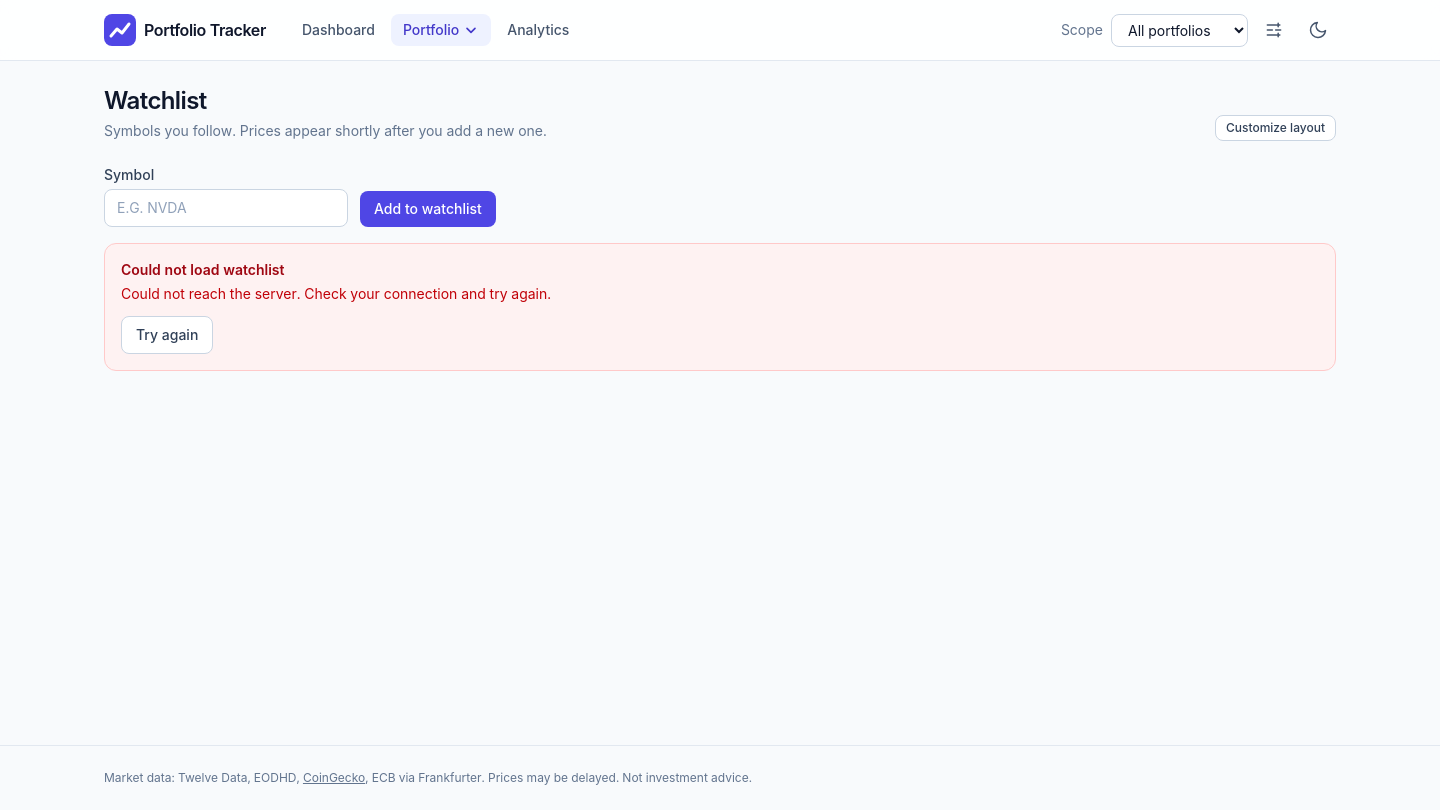
Test: WatchlistPage › shows an empty state and an error state with retry
Expected: the text "Could not load watchlist" is shown, [121, 261, 284, 278]
Step 1. Click the button "Try again" → point(167, 335), box [121, 316, 213, 354]
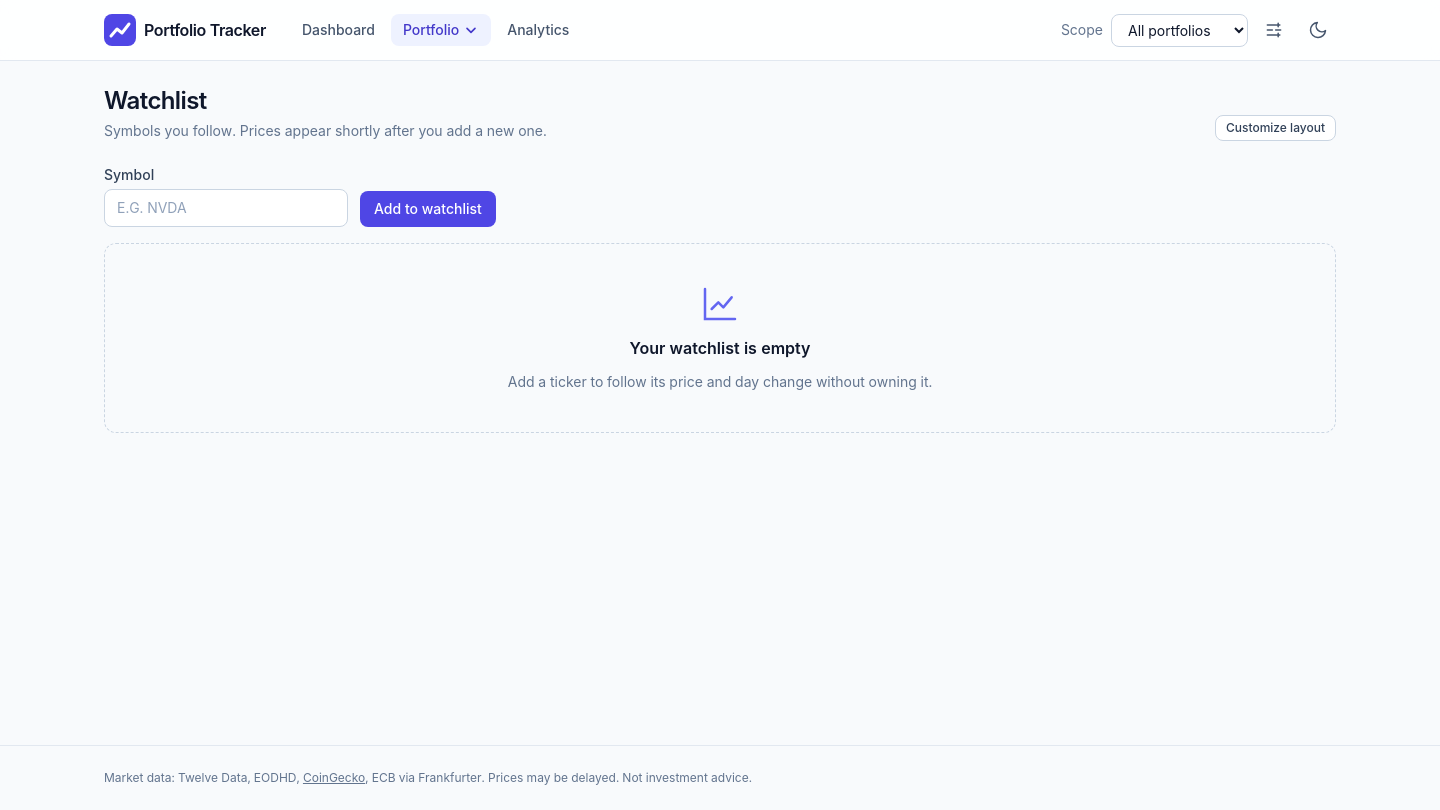
Result: the heading "Your watchlist is empty" is shown at [630, 336, 810, 360]
